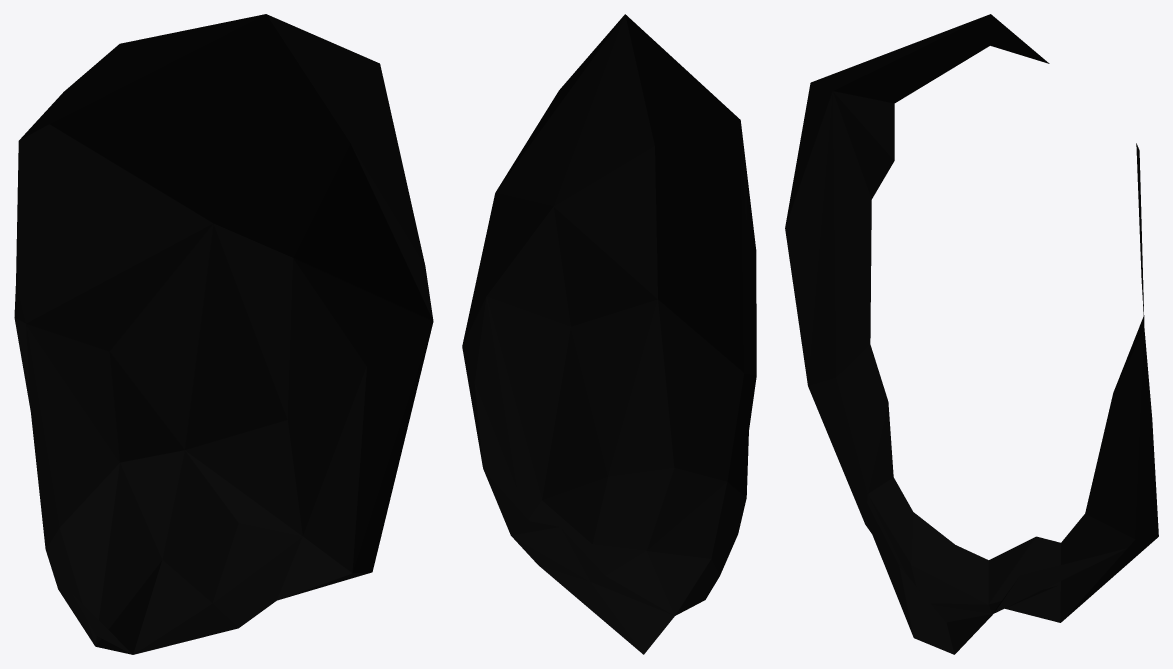
3 views of the same model, side by side, from view 1: azimuth 30°, elevation 25°; view 2: azimuth 150°, elevation 25°; view 3: azimuth 270°, elevation 25° (orthographic). The views are drawn at different scales.
Size of the model in its own units: 0.3558 by 0.7243 by 0.4011.
Materials: 1 (1 with a texture image).
